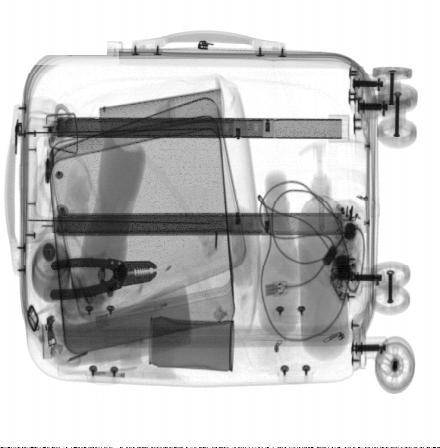Pliers: (49, 257, 157, 301)
